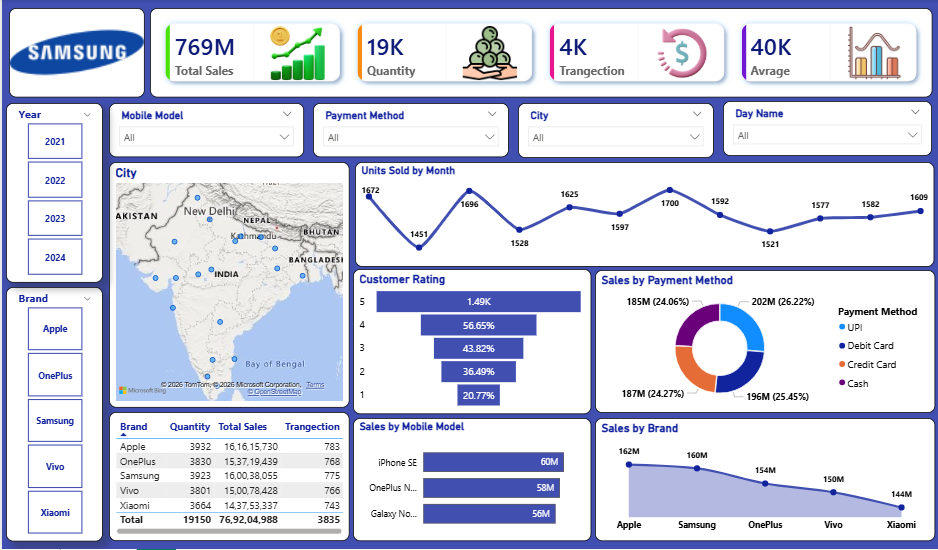

The dashboard page shown, as its layout file describes it:
{"tool":"powerbi","page":{"name":"Page 1","canvas":[1280,750],"ordinal":0},"visuals":[{"type":"cardVisual","fields":{"Data":["MainData.Total Revenue","MainData.Sold Units","MainData.Total Trangection","MainData.Avrage"]},"box":[201.3,12,1066.7,121.7],"z":0},{"type":"donutChart","title":"Sales by Payment Method","fields":{"Category":["MainData.Payment Method"],"Y":["MainData.Total Sales"]},"box":[808.3,369.6,464.2,195.3],"z":1000},{"type":"slicer","fields":{"Values":["MainData.Payment Method"]},"box":[423.7,141.2,267.4,73.6],"z":2000},{"type":"slicer","fields":{"Values":["MainData.Mobile Model"]},"box":[145.7,141.2,265.9,73.6],"z":3000},{"type":"slicer","fields":{"Values":["MainData.Brand"]},"box":[6,392.1,132.2,347],"z":4000},{"type":"slicer","fields":{"Values":["MainData.Day Name"]},"box":[982.5,139.7,285.4,75.1],"z":5000},{"type":"lineChart","title":" Units Sold by Month","fields":{"Category":["MainData.Month"],"Y":["Sum(MainData.Units Sold)"]},"box":[480.8,222.3,790.2,142.7],"z":6000},{"type":"funnel","title":"Customer Rating","fields":{"Y":["CountNonNull(MainData.Customer Ratings)"],"Category":["MainData.Customer Ratings"]},"box":[479.2,368.1,324.5,198.3],"z":7000},{"type":"map","fields":{"Category":["MainData.City"]},"box":[145.7,222.3,327.5,335],"z":8000},{"type":"slicer","fields":{"Values":["MainData.Date.Variation.Date Hierarchy.Year"]},"box":[6,141.2,132.2,244.9],"z":9000},{"type":"slicer","fields":{"Values":["MainData.City"]},"box":[703.1,141.2,267.4,75.1],"z":10000},{"type":"tableEx","fields":{"Values":["MainData.Brand","MainData.Total Quantity","MainData.Total Sales","MainData.Total Trangection"]},"box":[145.7,563.4,327.5,175.8],"z":11000},{"type":"barChart","title":"Sales by Mobile Model","fields":{"Category":["MainData.Mobile Model"],"Y":["MainData.Total Sales"]},"box":[479.2,570.9,324.5,168.3],"z":12000},{"type":"areaChart","title":" Sales by Brand","fields":{"Category":["MainData.Brand"],"Y":["MainData.Total Sales"]},"box":[808.3,570.9,464.2,168.3],"z":13000},{"type":"image","box":[9,12,184.8,121.7],"z":14000}]}

Visuals, with their boxes in screenshot pixels (x1, y1, x2, y2), scaled from the page's 1280x750 canvas onto the 938x550 screenshot:
cardVisual - MainData.Total Revenue x MainData.Sold Units: crop(148, 9, 929, 98)
"Sales by Payment Method" donutChart: crop(592, 271, 933, 414)
slicer - MainData.Payment Method: crop(310, 104, 506, 158)
slicer - MainData.Mobile Model: crop(107, 104, 302, 158)
slicer - MainData.Brand: crop(4, 288, 101, 542)
slicer - MainData.Day Name: crop(720, 102, 929, 158)
" Units Sold by Month" lineChart: crop(352, 163, 931, 268)
"Customer Rating" funnel: crop(351, 270, 589, 415)
map - MainData.City: crop(107, 163, 347, 409)
slicer - MainData.Date.Variation.Date Hierarchy.Year: crop(4, 104, 101, 283)
slicer - MainData.City: crop(515, 104, 711, 159)
tableEx - MainData.Brand x MainData.Total Quantity: crop(107, 413, 347, 542)
"Sales by Mobile Model" barChart: crop(351, 419, 589, 542)
" Sales by Brand" areaChart: crop(592, 419, 933, 542)
image: crop(7, 9, 142, 98)
